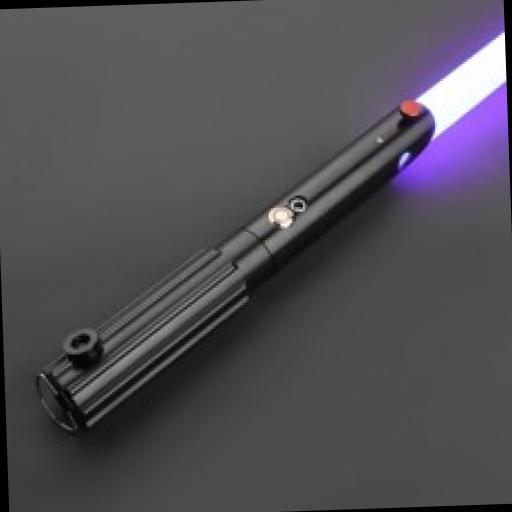lightsaber: (12, 25, 512, 437)
